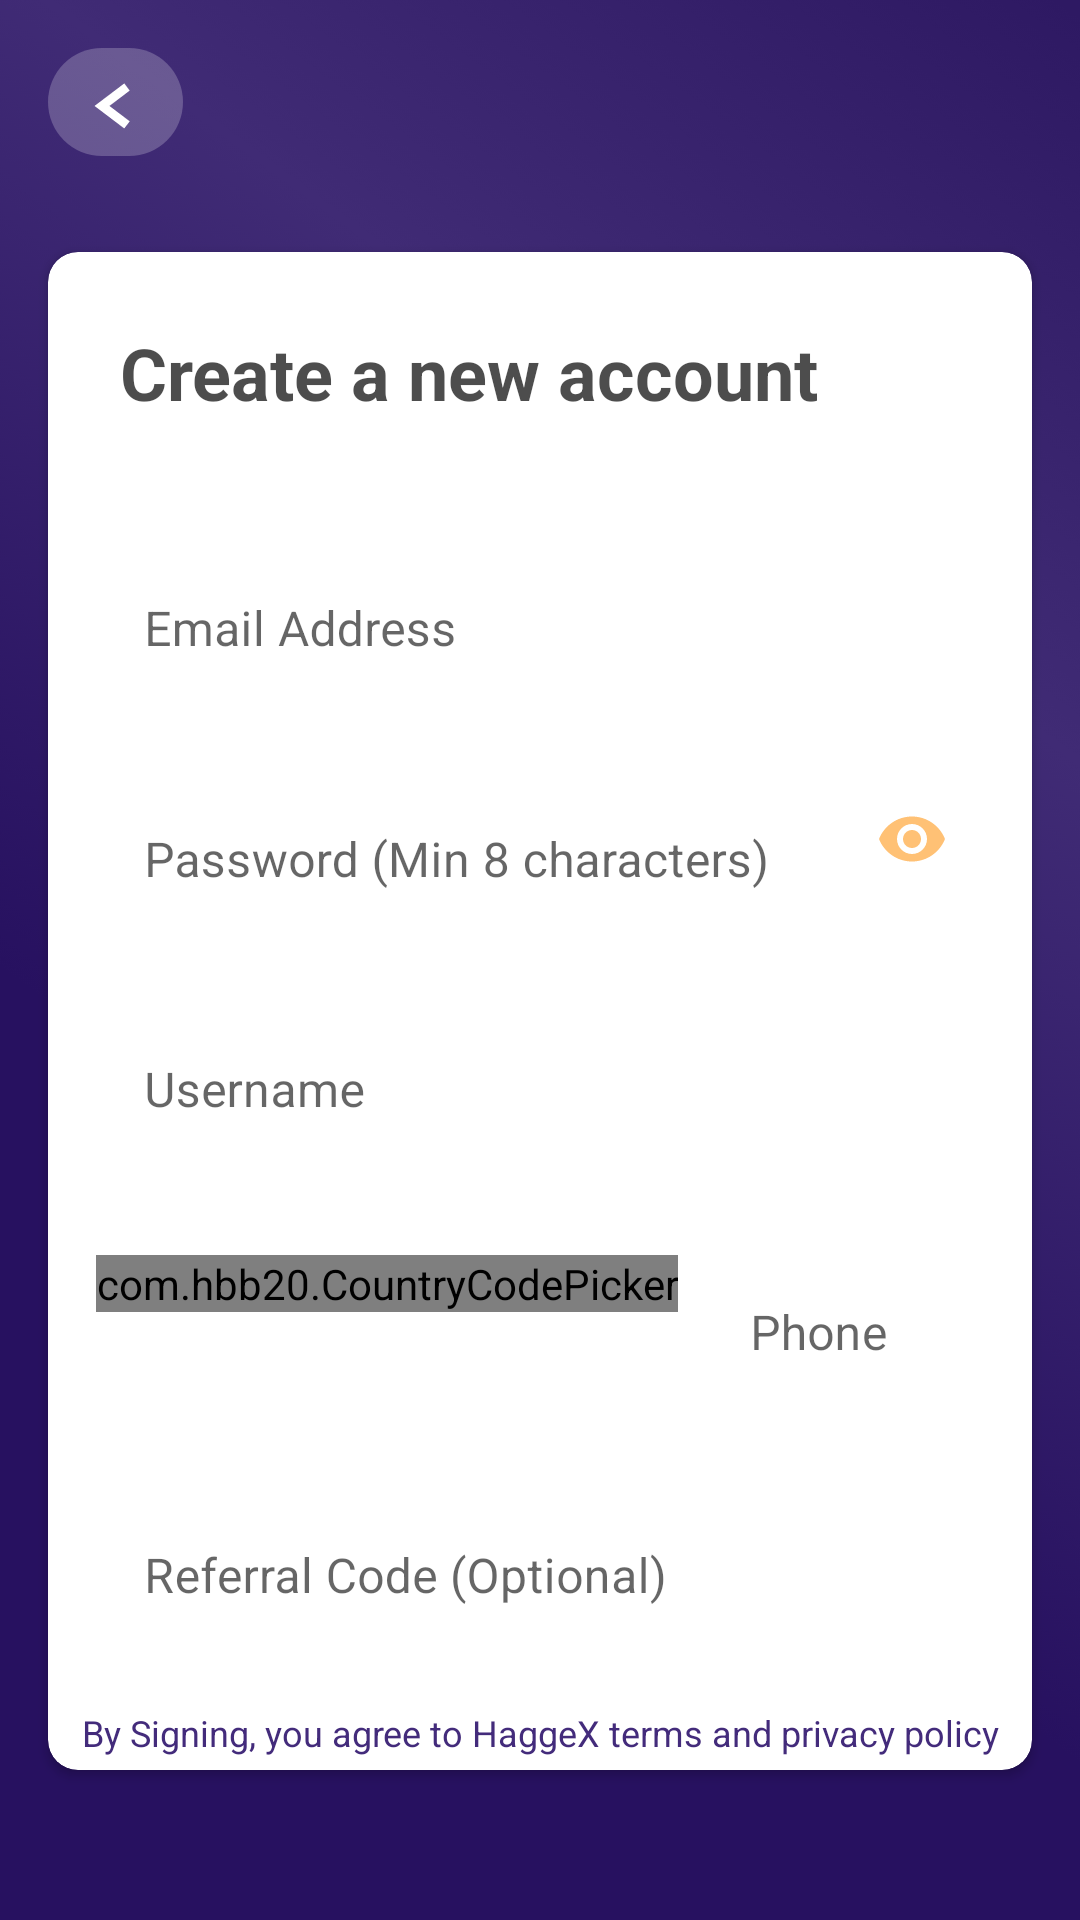

Icon bounding boxes for this 1080px x 1920px phone screenshot, format (x1, y1, x2, y2):
back: (48, 48, 183, 156)
